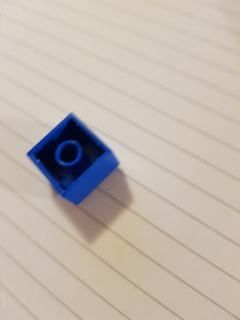2x2 blue: (25, 110, 122, 207)
